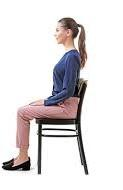Good Sitting Posture: (2, 13, 104, 183)
